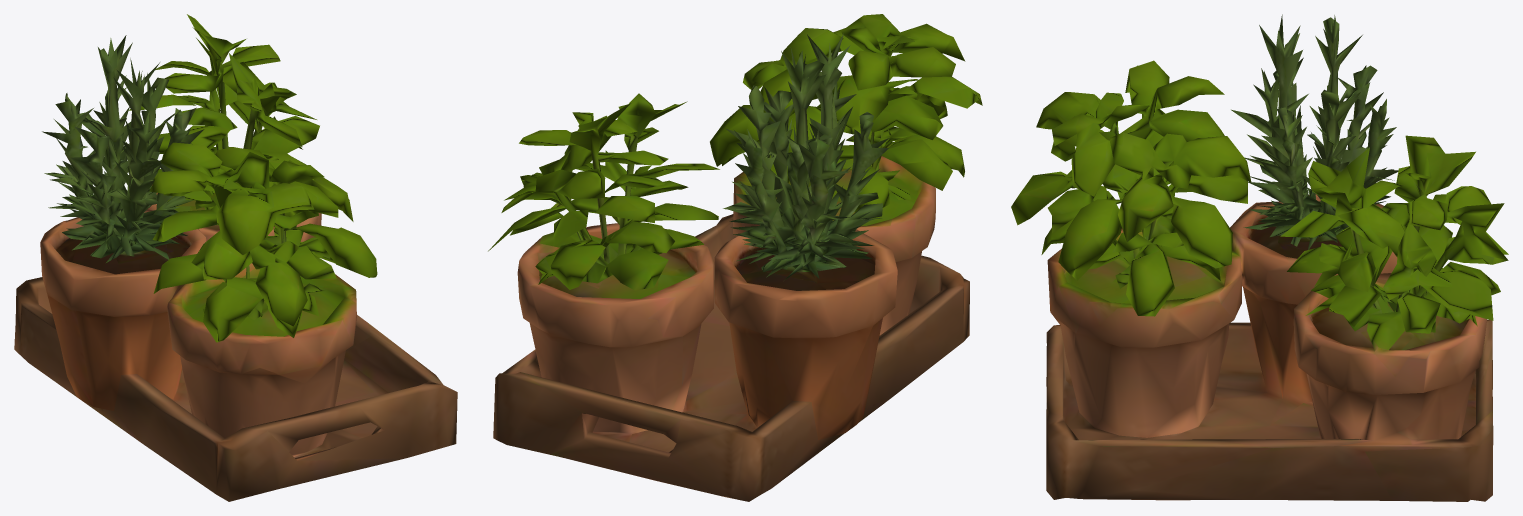
File: SM_Kitchen_Herbs.glb
3 views of the same model, side by side, from view 1: azimuth 30°, elevation 25°; view 2: azimuth 150°, elevation 25°; view 3: azimuth 270°, elevation 25° (orthographic). The views are drawn at different scales.
Parts seen in each view (by area): view 1: tripo_node_2e1877ef-605b-4a6d-adea-3fac048defa1; view 2: tripo_node_2e1877ef-605b-4a6d-adea-3fac048defa1; view 3: tripo_node_2e1877ef-605b-4a6d-adea-3fac048defa1.
Part boxes in pixels (left/top/right/bottom): tripo_node_2e1877ef-605b-4a6d-adea-3fac048defa1: left=14, top=14, right=457, bottom=501; tripo_node_2e1877ef-605b-4a6d-adea-3fac048defa1: left=488, top=14, right=982, bottom=501; tripo_node_2e1877ef-605b-4a6d-adea-3fac048defa1: left=1011, top=14, right=1508, bottom=501.
Size of the model in its own units: 0.7286 by 0.8374 by 1.
Materials: 1 (1 with a texture image).
